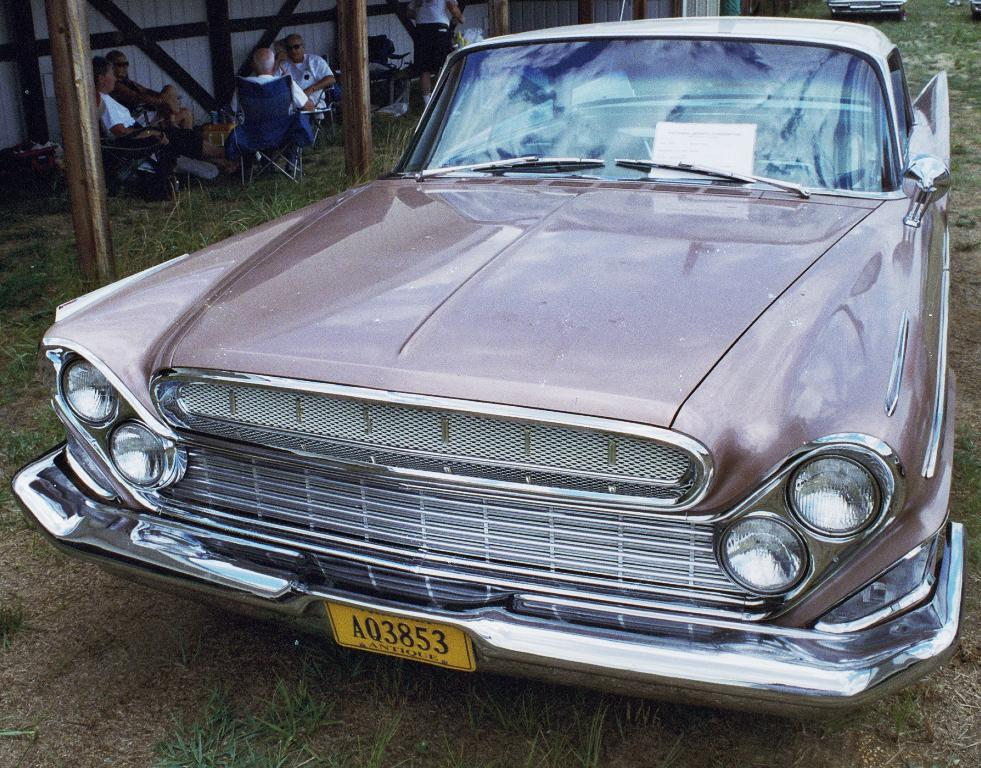Car: (7, 0, 968, 709), (825, 0, 908, 17)
